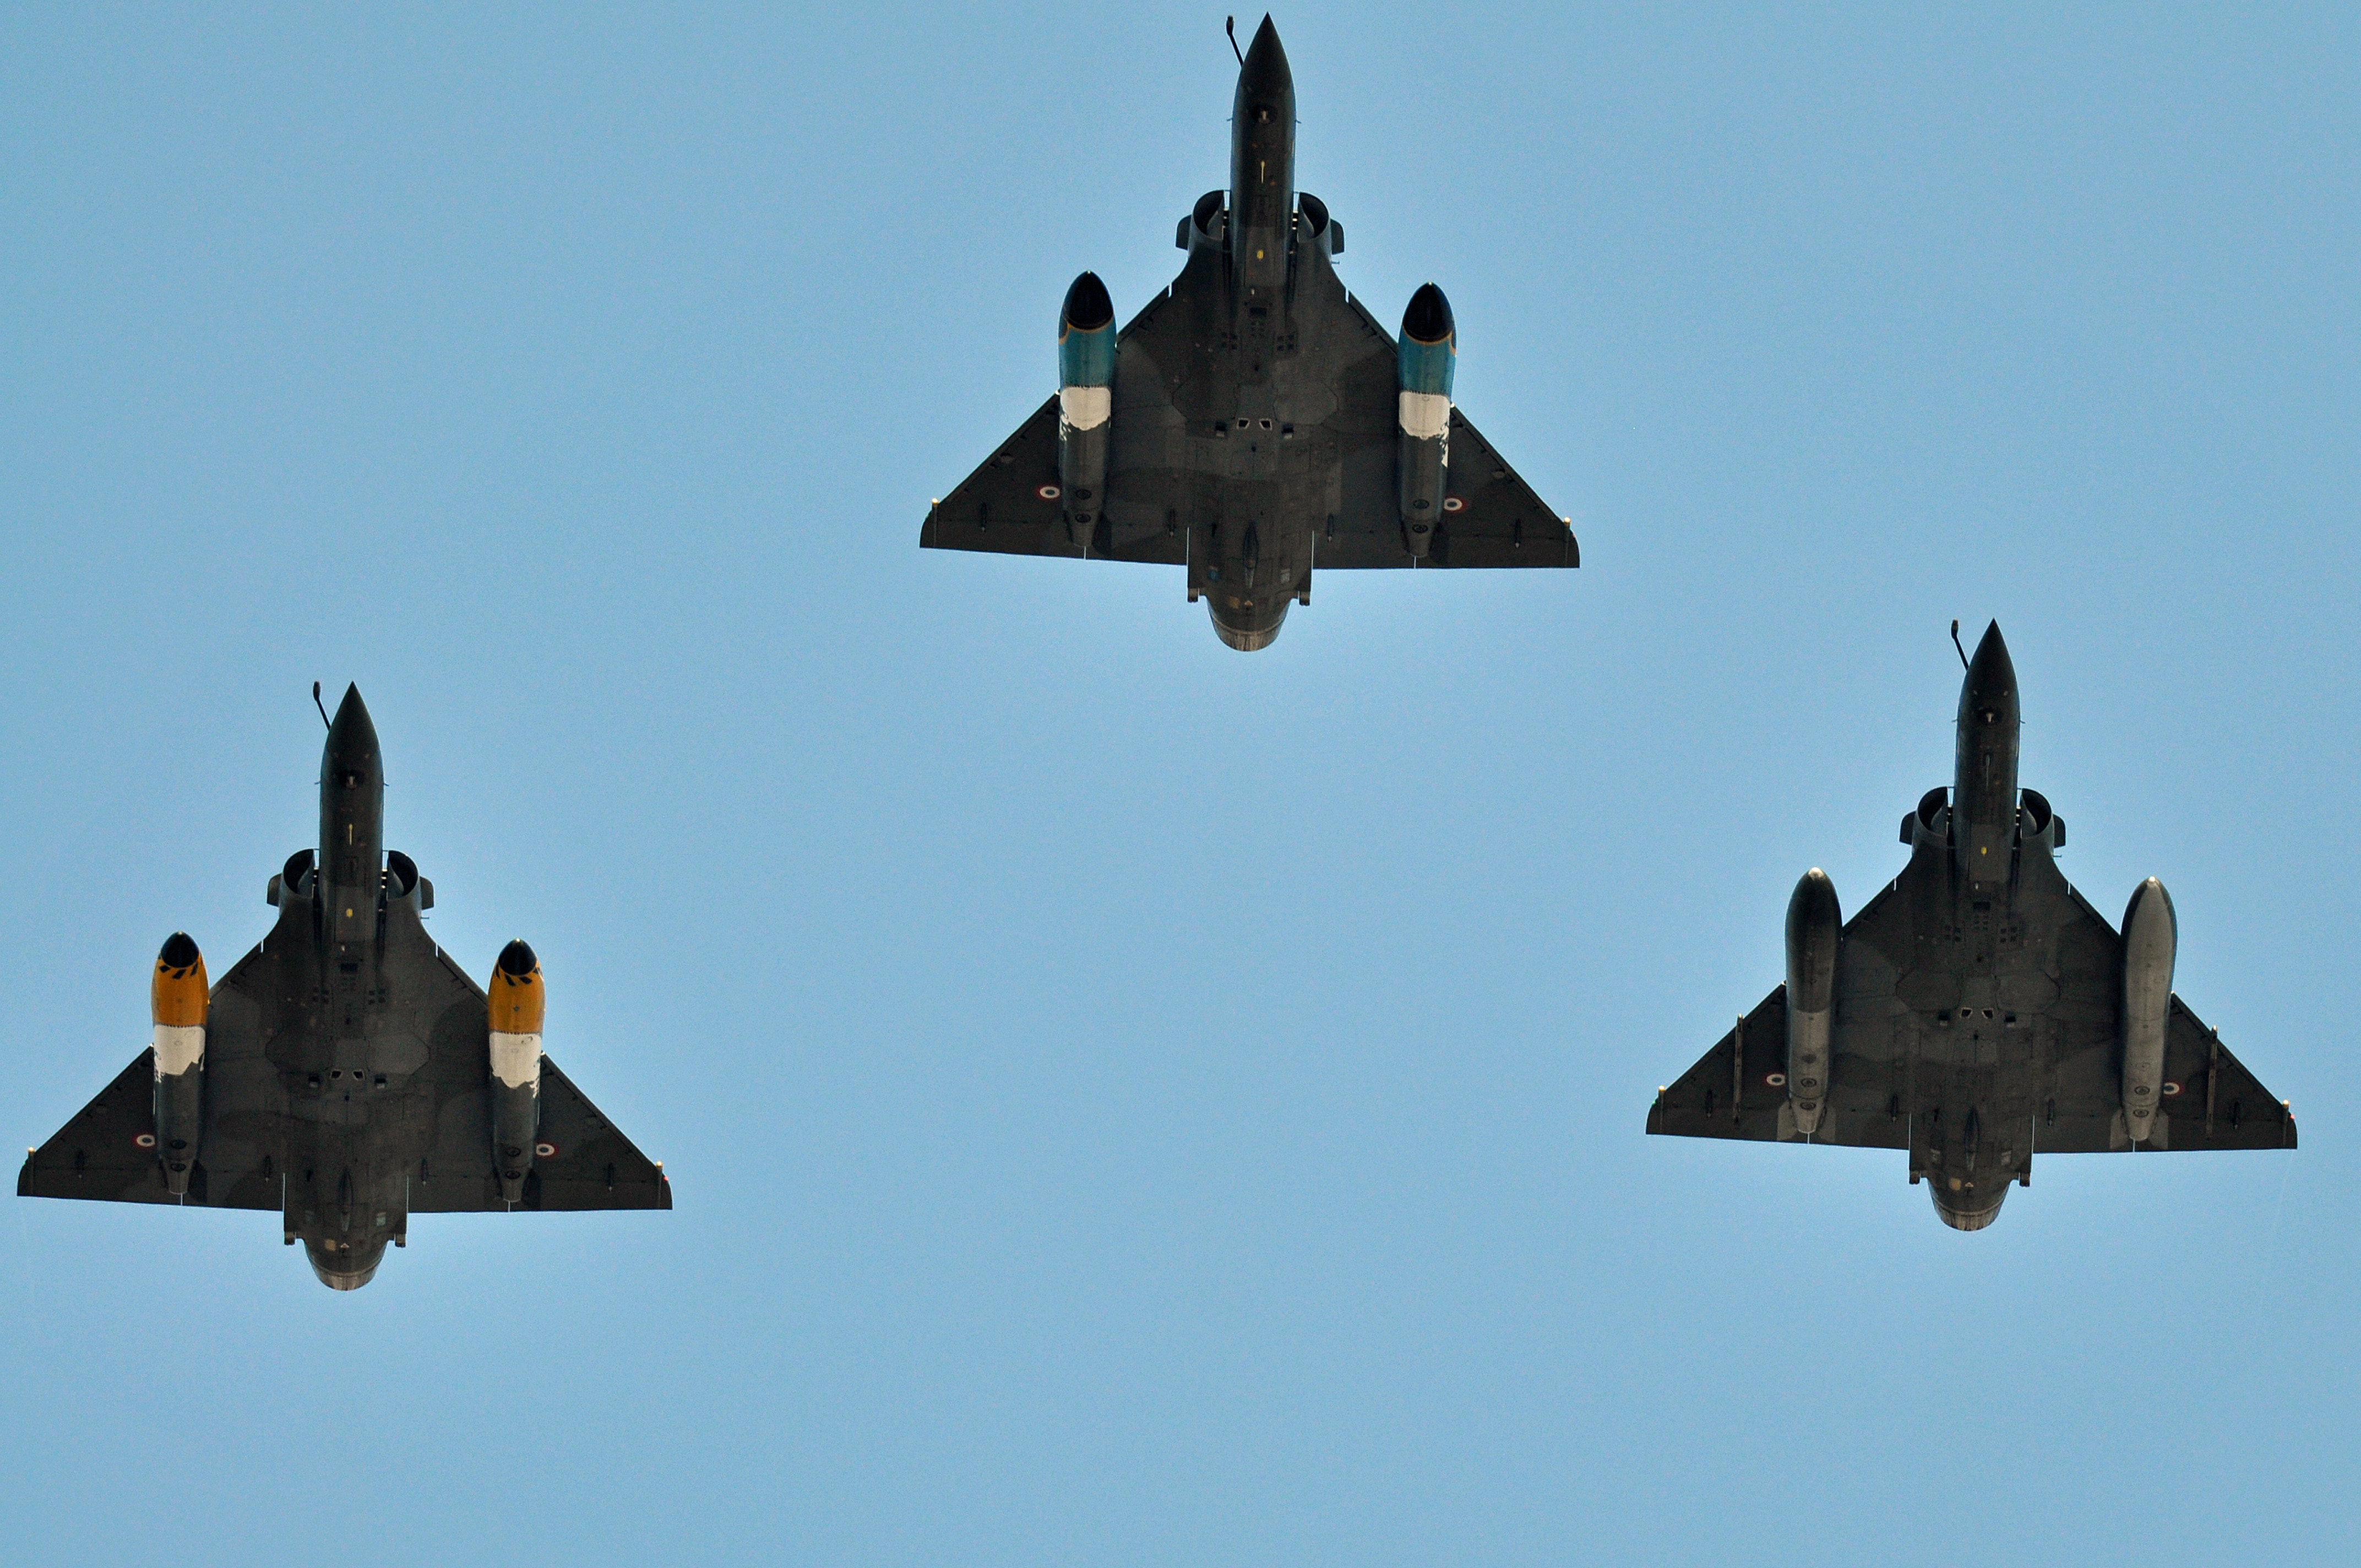Mirage2000: (919, 10, 1580, 653), (16, 679, 674, 1291), (1645, 616, 2298, 1232)
